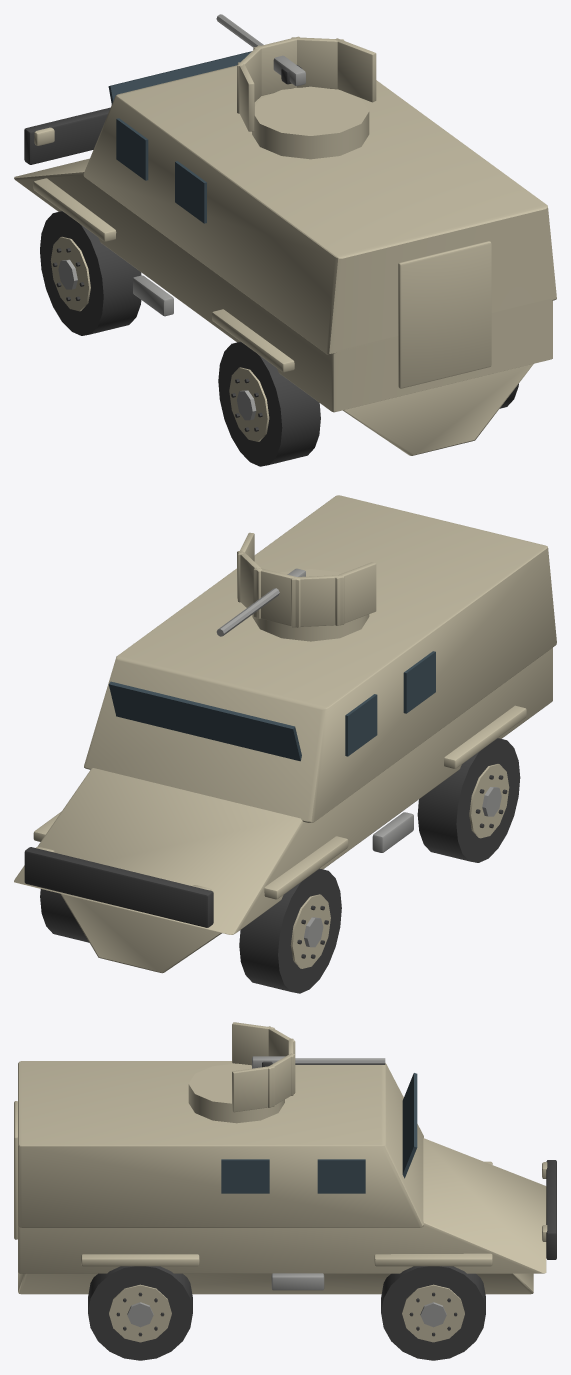
The model's file is rus_mrap_tyu.glb.
3 renders of one model, top to bottom at view 1: azimuth 30°, elevation 25°; view 2: azimuth 150°, elevation 25°; view 3: azimuth 270°, elevation 25°, orthographic. The views are drawn at different scales.
Parts seen in each view (by area): view 1: body, turret, wheel_2, wheel_0, barrel; view 2: body, turret, wheel_0, wheel_2, wheel_1, barrel; view 3: body, wheel_1, wheel_3, turret, barrel.
Boxes of the visible parts, x1,y1,x2,y2 form: body: (14, 51, 556, 455); turret: (237, 36, 376, 159); wheel_2: (218, 341, 320, 466); wheel_0: (40, 211, 141, 335); barrel: (216, 14, 305, 86); body: (14, 495, 556, 973); turret: (237, 532, 376, 641); wheel_0: (239, 868, 341, 993); wheel_2: (417, 738, 520, 862); wheel_1: (40, 889, 89, 942); barrel: (216, 568, 305, 636); body: (14, 1061, 556, 1294); wheel_1: (381, 1266, 485, 1360); wheel_3: (88, 1266, 192, 1360); turret: (188, 1022, 295, 1123); barrel: (252, 1056, 385, 1068).
Size of the model in its own units: 2.72 by 3.35 by 6.2.
